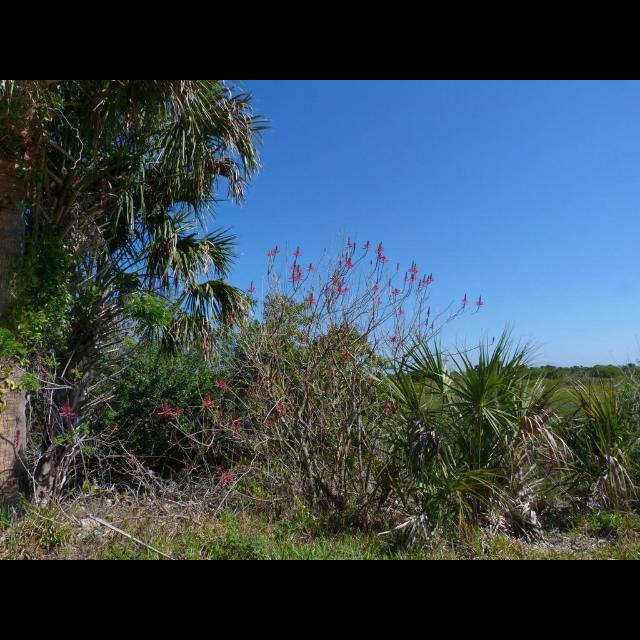Flower: (375, 241, 385, 257), (338, 280, 348, 294), (308, 294, 320, 304), (345, 239, 357, 247), (271, 248, 281, 256), (410, 262, 416, 274), (344, 260, 352, 266), (418, 276, 424, 284), (478, 298, 482, 306), (296, 244, 298, 256), (461, 298, 465, 304)
